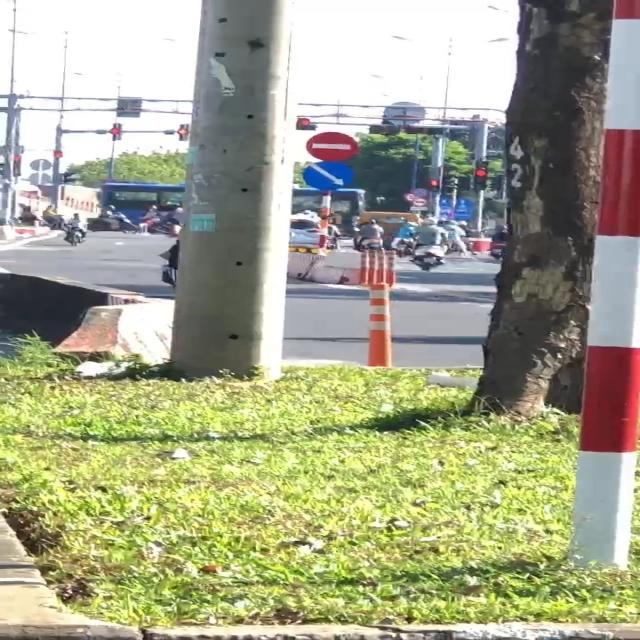Bien bao cam di nguoc chieu: (304, 130, 366, 162)
Bien bao huong phai di vong chuong ngai vat: (302, 160, 364, 193)
